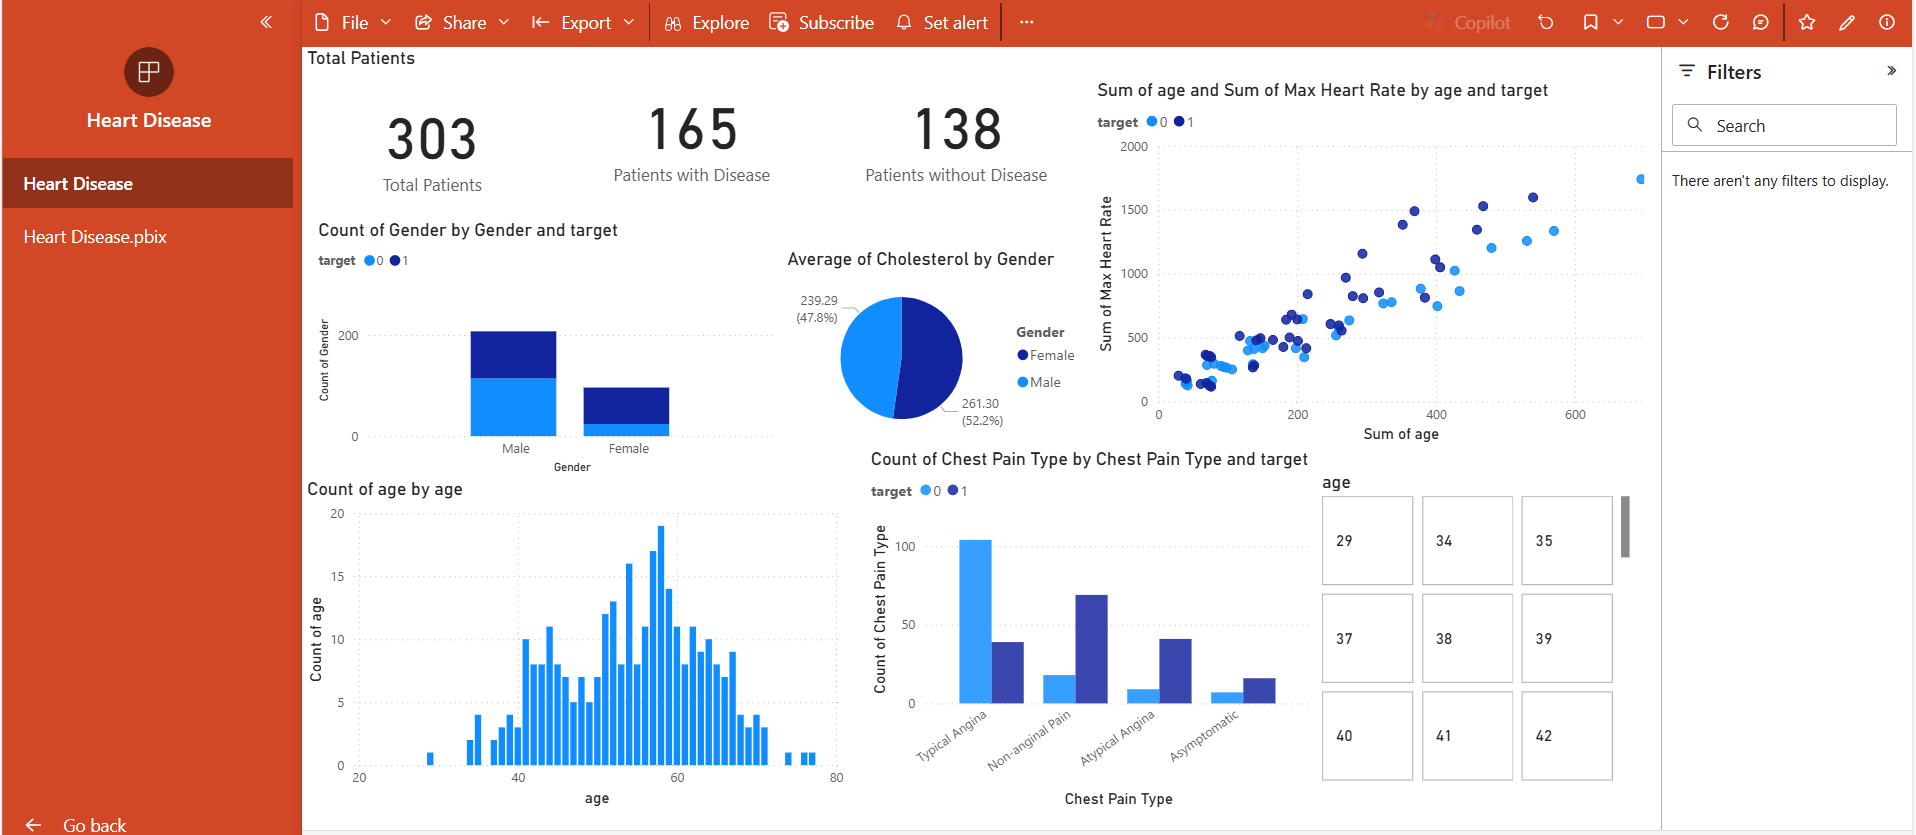

The dashboard page shown, as its layout file describes it:
{"tool":"powerbi","page":{"name":"Page 1","canvas":[1280,720],"ordinal":0},"visuals":[{"type":"card","title":"Total Patients","fields":{"Values":["heart.Total Patients"]},"box":[0,0,245.8,162.7],"z":0},{"type":"card","fields":{"Values":["heart.Patients with Disease"]},"box":[246.3,0,242.6,163],"z":1000},{"type":"card","fields":{"Values":["heart.Patients without Disease"]},"box":[488.9,0,255.6,163],"z":2000},{"type":"columnChart","fields":{"Category":["heart.Gender"],"Y":["CountNonNull(heart.Gender)"],"Series":["heart.target"]},"box":[10.2,162.7,440.7,244.1],"z":3000},{"type":"clusteredColumnChart","fields":{"Category":["heart.Chest Pain Type"],"Y":["CountNonNull(heart.Chest Pain Type)"],"Series":["heart.target"]},"box":[531,377.4,425.4,343.1],"z":4000},{"type":"columnChart","fields":{"Category":["heart.age"],"Y":["CountNonNull(heart.age)"]},"box":[0,406.2,516,314.2],"z":5000},{"type":"scatterChart","fields":{"X":["Sum(heart.age)"],"Y":["Sum(heart.Max Heart Rate)"],"Series":["heart.target"],"Category":["heart.age"]},"box":[744.1,30.9,535.3,347.1],"z":6000},{"type":"pieChart","fields":{"Category":["heart.Gender"],"Y":["Avg(heart.Cholesterol)"]},"box":[452.5,189.8,291.5,188.1],"z":7000},{"type":"advancedSlicerVisual","fields":{"Values":["heart.age"]},"box":[956.4,399.3,299.1,299.1],"z":7001}]}

Visuals, with their boxes on the page's 1280x720 design canvas (x1, y1, x2, y2). These are canvas units, not pixel positions in the 1916x835 screenshot, which may show the page scaled, cropped or inside an application window:
"Total Patients" card: 0,0,246,163
card - heart.Patients with Disease: 246,0,489,163
card - heart.Patients without Disease: 489,0,744,163
columnChart - heart.Gender x CountNonNull(heart.Gender): 10,163,451,407
clusteredColumnChart - heart.Chest Pain Type x CountNonNull(heart.Chest Pain Type): 531,377,956,720
columnChart - heart.age x CountNonNull(heart.age): 0,406,516,720
scatterChart - Sum(heart.age) x Sum(heart.Max Heart Rate): 744,31,1279,378
pieChart - heart.Gender x Avg(heart.Cholesterol): 452,190,744,378
advancedSlicerVisual - heart.age: 956,399,1256,698
